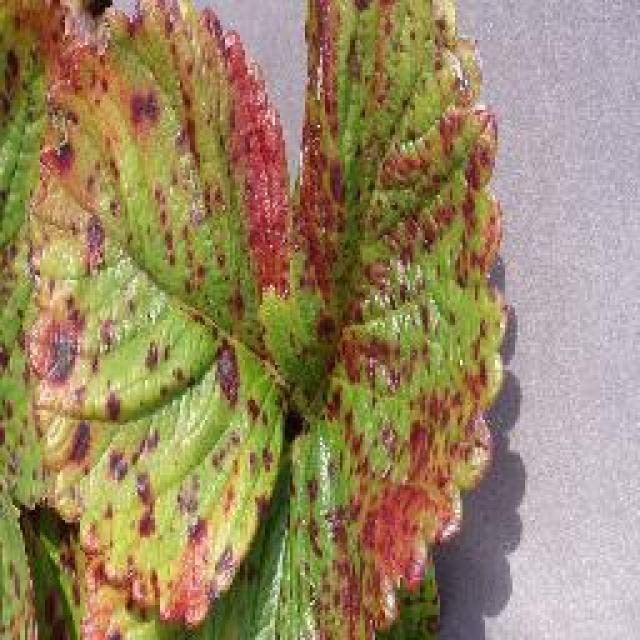Strawberry leaf scorch: (35, 0, 467, 630)
